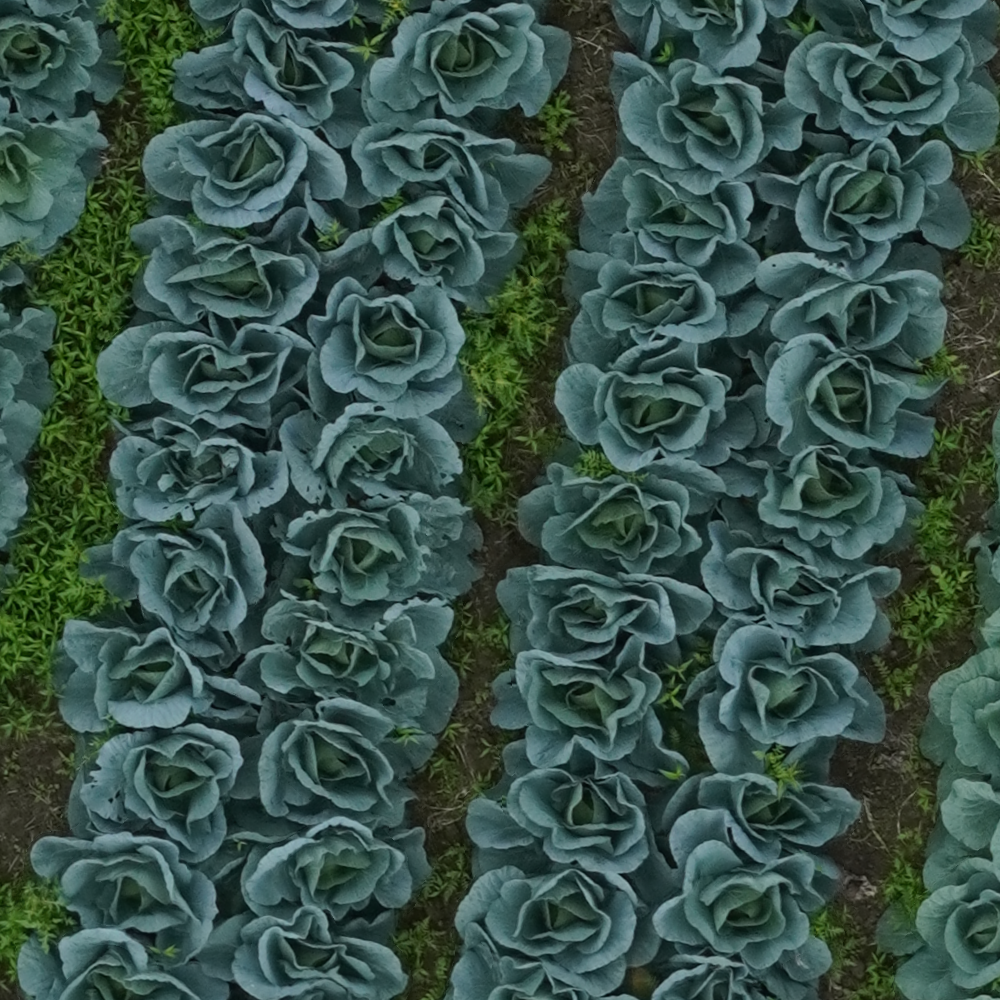Cabbage: (630, 807, 840, 981), (758, 131, 973, 285), (343, 77, 551, 233), (687, 621, 887, 779), (77, 503, 267, 667), (231, 695, 437, 844), (234, 597, 458, 733), (553, 336, 773, 473), (69, 724, 251, 886), (491, 637, 688, 786), (609, 51, 808, 197), (560, 231, 772, 368), (273, 493, 486, 629), (308, 278, 485, 441), (735, 335, 949, 468), (173, 6, 377, 145), (664, 739, 861, 882), (719, 444, 926, 575), (785, 31, 1000, 156), (456, 862, 661, 993), (144, 113, 358, 238), (701, 521, 903, 653), (96, 312, 318, 431), (368, 0, 572, 129), (29, 832, 216, 965), (517, 460, 725, 577), (318, 195, 524, 313), (754, 244, 949, 368), (54, 618, 261, 734), (467, 764, 683, 875), (498, 563, 712, 672), (578, 154, 778, 268), (130, 210, 322, 328), (109, 414, 292, 526), (281, 402, 465, 512), (237, 817, 430, 921), (874, 841, 1000, 1000), (198, 907, 407, 1000), (0, 102, 108, 256), (0, 0, 131, 124), (19, 927, 230, 1000), (612, 0, 797, 77), (444, 926, 636, 1000), (920, 647, 999, 792), (651, 955, 817, 1000)
